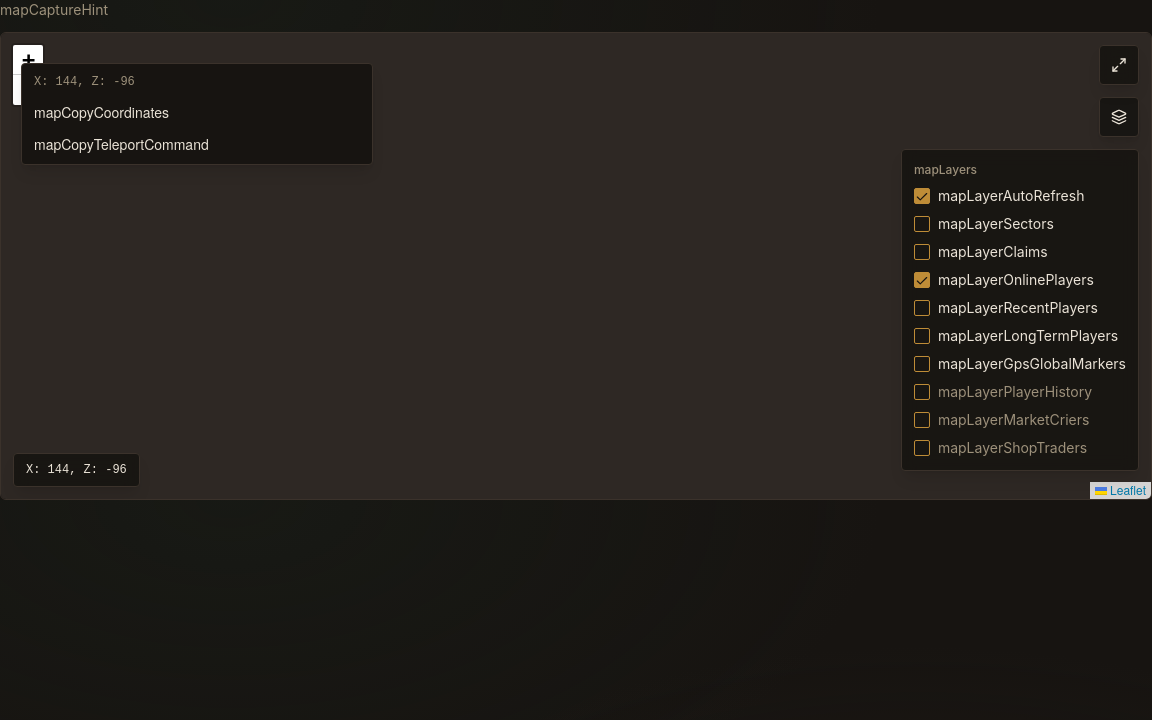
it: AdminMapTab › opens a surface-height teleport command from the map context menu
This screenshot has width=1152, height=720.
Press the mouse on the button "mapCopyTeleportCommand" at (197, 144), box [26,128,368,160]
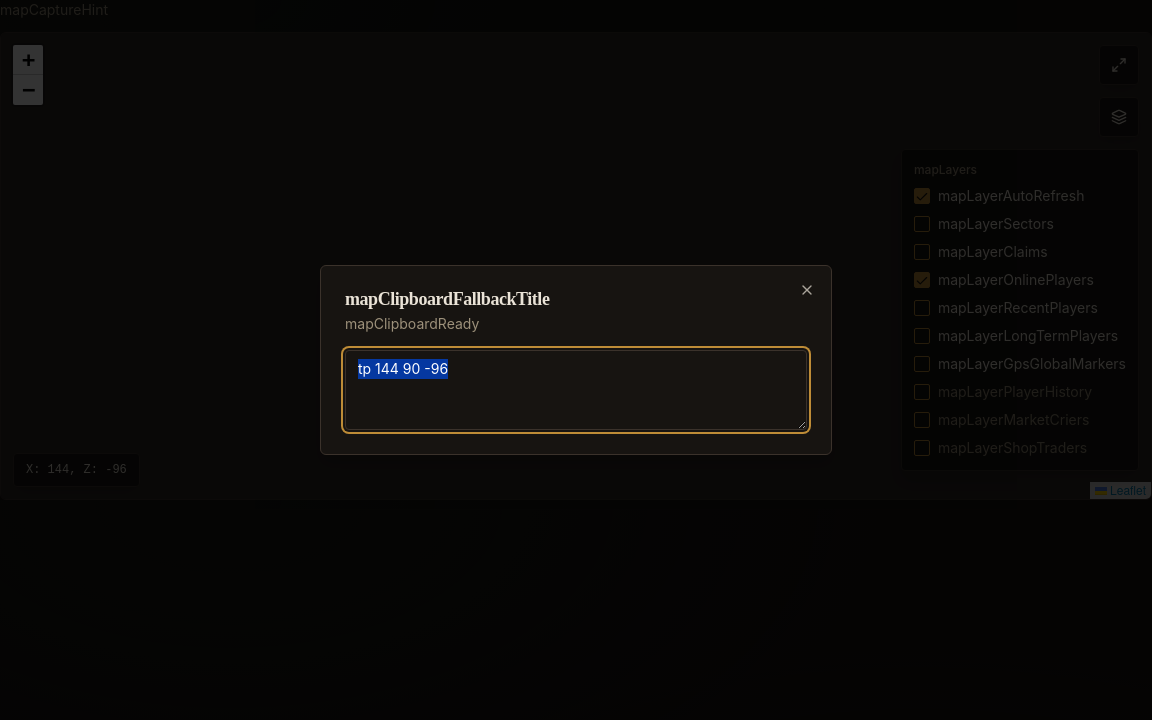
Expected: the text box named "mapClipboardReady" holds "tp 144 90 -96", [345,350,807,430]
